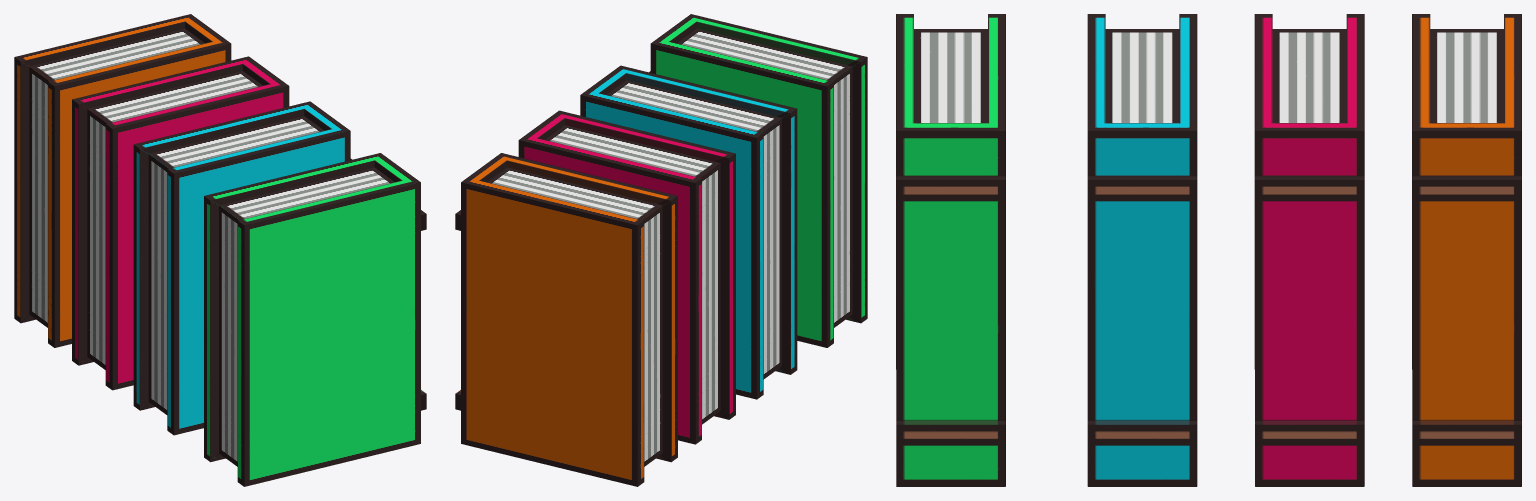
The model's file is book.fbx.
The picture shows the model from 3 angles, left to right: view 1: azimuth 30°, elevation 25°; view 2: azimuth 150°, elevation 25°; view 3: azimuth 270°, elevation 25°; orthographic projection. The views are drawn at different scales.
Parts seen in each view (by area): view 1: Cube.003, Cube.002, Cube, Cube.001; view 2: Cube.001, Cube.003, Cube.002, Cube; view 3: Cube.002, Cube, Cube.001, Cube.003.
Boxes of the visible parts, x1,y1,x2,y2 form: Cube.003: (204, 153, 426, 486); Cube.002: (133, 101, 351, 435); Cube: (72, 56, 289, 390); Cube.001: (14, 14, 231, 347); Cube.001: (455, 153, 677, 486); Cube.003: (649, 14, 867, 347); Cube.002: (580, 65, 797, 399); Cube: (518, 110, 735, 444); Cube.002: (1087, 14, 1197, 486); Cube: (1254, 14, 1364, 486); Cube.001: (1412, 14, 1521, 486); Cube.003: (896, 14, 1005, 486).
Size of the model in its own units: 146 by 200 by 319.
